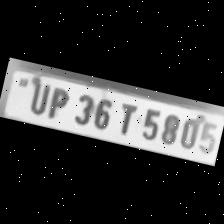0: (176, 113, 203, 151)
3: (68, 89, 96, 127)
5: (135, 104, 164, 142), (196, 117, 220, 155)
6: (88, 94, 117, 132)
8: (157, 110, 183, 147)
P: (42, 83, 72, 122)
T: (111, 99, 141, 138)
U: (24, 78, 51, 116)
